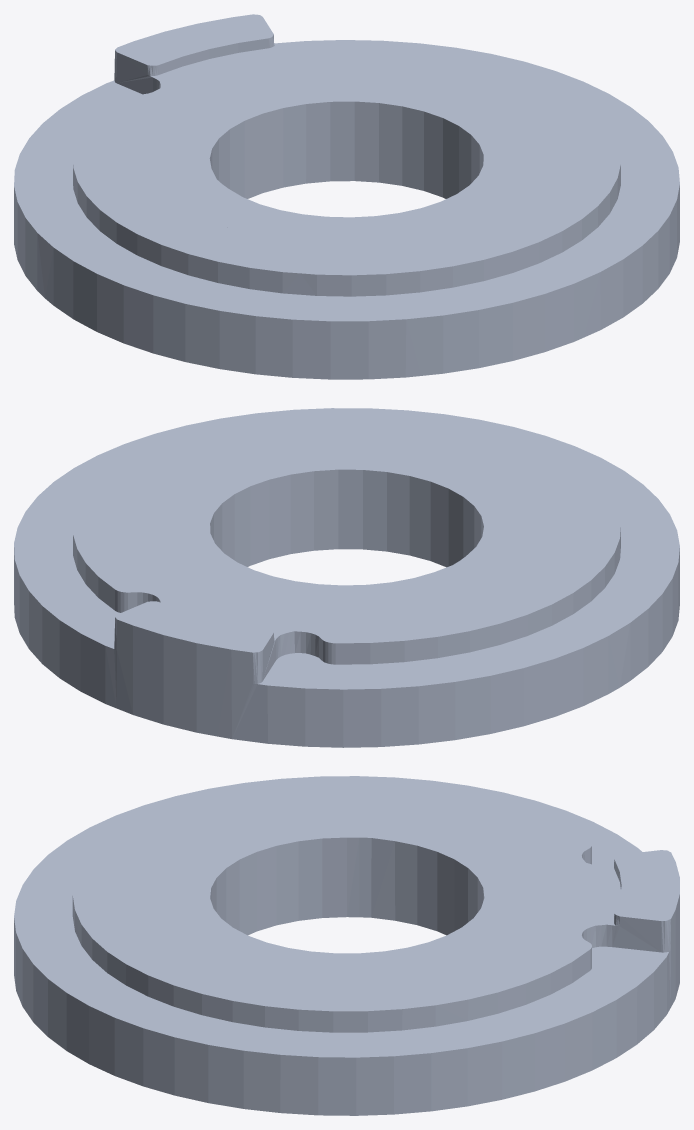
3 views of the same model, one above another, from view 1: azimuth 30°, elevation 25°; view 2: azimuth 150°, elevation 25°; view 3: azimuth 270°, elevation 25° (orthographic).
Visible parts, largest first — view 1: link4_01; view 2: link4_01; view 3: link4_01.
Part boxes in pixels (<box>): link4_01: <box>14,14,679,379</box>; link4_01: <box>14,408,679,747</box>; link4_01: <box>14,776,679,1115</box>.
Bounding box in the file's own units: 0.0425 × 0.0063 × 0.0425.
